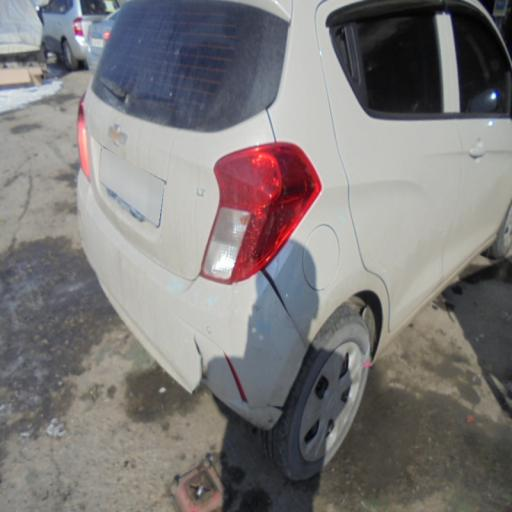broken: (184, 142, 346, 424)
